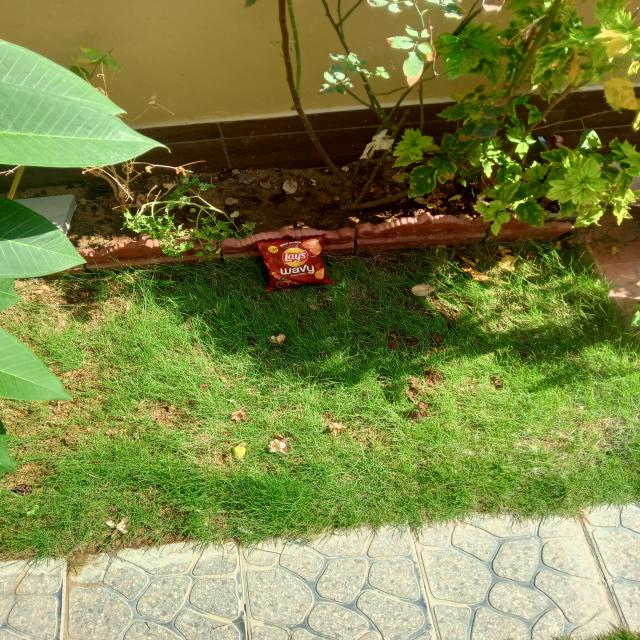Plastic: (266, 238, 332, 286)
